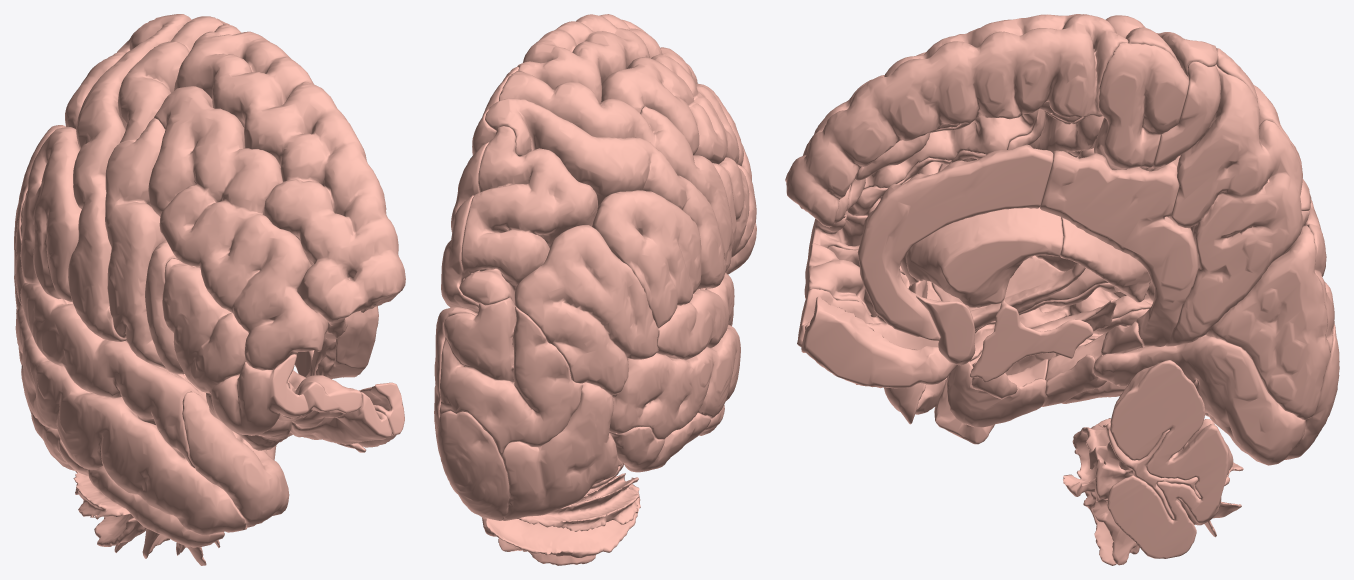
File: female-a-organ-2.glb
The picture shows the model from 3 angles, left to right: view 1: azimuth 30°, elevation 25°; view 2: azimuth 150°, elevation 25°; view 3: azimuth 270°, elevation 25°; orthographic projection. The views are drawn at different scales.
Parts seen in each view (by area): view 1: Allen_superior_frontal_gyrus_L, Allen_middle_frontal_gyrus_L, Allen_middle_temporal_gyrus_L, Allen_precentral_gyrus_L, Allen_postcentral_gyrus_L, Allen_superior_temporal_gyrus_L, Allen_supramarginal_gyrus_L, Allen_inferior_frontal_gyrus_triangular_part_L, Allen_temporal_pole_L, Allen_lateral_orbital_gyrus_L, Allen_inferior_temporal_gyrus_L, Allen_white_matter_of_hindbrain_L (+8 smaller); view 2: Allen_superior_occipital_gyrus_L, Allen_angular_gyrus_L, Allen_supraparietal_lobule_L, Allen_postcentral_gyrus_L, Allen_supramarginal_gyrus_L, Allen_inferior_occipital_gyrus_L, Allen_precentral_gyrus_L, Allen_middle_temporal_gyrus_L, Allen_white_matter_of_hindbrain_L, Allen_middle_frontal_gyrus_L, Allen_superior_frontal_gyrus_L, Allen_occipital_pole_L (+8 smaller); view 3: Allen_superior_frontal_gyrus_L, Allen_precuneus_L, Allen_cerebellar_vermis_L, Allen_cingulate_gyrus_rostral_anterior_part_L, Allen_cingulate_gyrus_caudal_posterior_part_L, Allen_cuneus_L, Allen_lingual_gyrus_medial_occipitotemporal_gyrus_L, Allen_anterior_horn_of_lateral_ventricle_L, Allen_paracentral_lobule_rostral_part_L, Allen_gyrus_rectus_straight_gyrus_L, Allen_white_matter_of_hindbrain_L, Allen_middle_frontal_gyrus_L (+24 smaller).
Part boxes in pixels (x1,y1,x2,y2): Allen_superior_frontal_gyrus_L: [174, 24, 405, 339]; Allen_middle_frontal_gyrus_L: [148, 86, 328, 370]; Allen_middle_temporal_gyrus_L: [15, 304, 247, 535]; Allen_precentral_gyrus_L: [105, 16, 222, 369]; Allen_postcentral_gyrus_L: [68, 14, 191, 341]; Allen_superior_temporal_gyrus_L: [20, 282, 201, 468]; Allen_supramarginal_gyrus_L: [20, 127, 81, 301]; Allen_inferior_frontal_gyrus_triangular_part_L: [162, 258, 248, 393]; Allen_temporal_pole_L: [182, 391, 289, 527]; Allen_lateral_orbital_gyrus_L: [206, 354, 308, 435]; Allen_inferior_temporal_gyrus_L: [23, 385, 224, 547]; Allen_white_matter_of_hindbrain_L: [73, 470, 220, 565]; Allen_superior_occipital_gyrus_L: [439, 297, 582, 456]; Allen_angular_gyrus_L: [514, 225, 658, 395]; Allen_supraparietal_lobule_L: [459, 126, 597, 305]; Allen_postcentral_gyrus_L: [485, 98, 726, 289]; Allen_supramarginal_gyrus_L: [592, 190, 701, 328]; Allen_inferior_occipital_gyrus_L: [501, 382, 622, 520]; Allen_precentral_gyrus_L: [499, 71, 732, 271]; Allen_middle_temporal_gyrus_L: [609, 325, 740, 439]; Allen_white_matter_of_hindbrain_L: [486, 473, 640, 565]; Allen_middle_frontal_gyrus_L: [601, 54, 751, 180]; Allen_superior_frontal_gyrus_L: [517, 14, 697, 103]; Allen_occipital_pole_L: [437, 410, 509, 520]; Allen_superior_frontal_gyrus_L: [785, 14, 1128, 227]; Allen_precuneus_L: [1165, 64, 1309, 346]; Allen_cerebellar_vermis_L: [1107, 360, 1233, 558]; Allen_cingulate_gyrus_rostral_anterior_part_L: [857, 144, 1053, 340]; Allen_cingulate_gyrus_caudal_posterior_part_L: [1040, 150, 1198, 346]; Allen_cuneus_L: [1206, 225, 1330, 419]; Allen_lingual_gyrus_medial_occipitotemporal_gyrus_L: [1093, 325, 1305, 465]; Allen_anterior_horn_of_lateral_ventricle_L: [906, 207, 1063, 307]; Allen_paracentral_lobule_rostral_part_L: [1094, 43, 1188, 170]; Allen_gyrus_rectus_straight_gyrus_L: [801, 296, 957, 388]; Allen_white_matter_of_hindbrain_L: [1063, 418, 1243, 565]; Allen_middle_frontal_gyrus_L: [800, 28, 1070, 218].
Size of the model in its own units: 0.0608 by 0.1417 by 0.1291.
